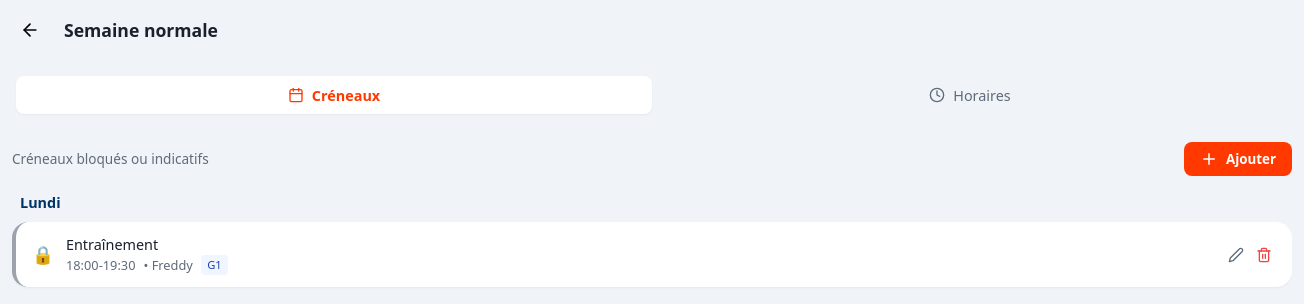
Scenario: TemplateEditor › bascule vers l'onglet Horaires
The image size is (1304, 304).
Click the button "Horaires": point(970, 95) [652,76,1288,114]
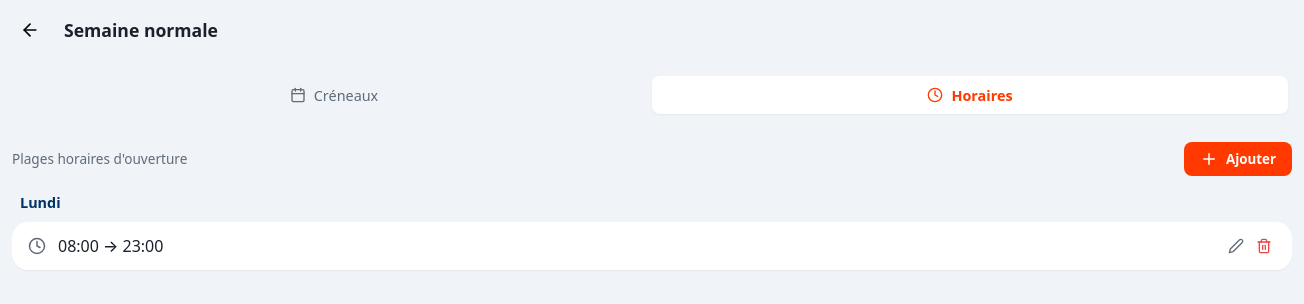
Expected: the text "Plages horaires d'ouverture" is shown, [12,149,187,169]
